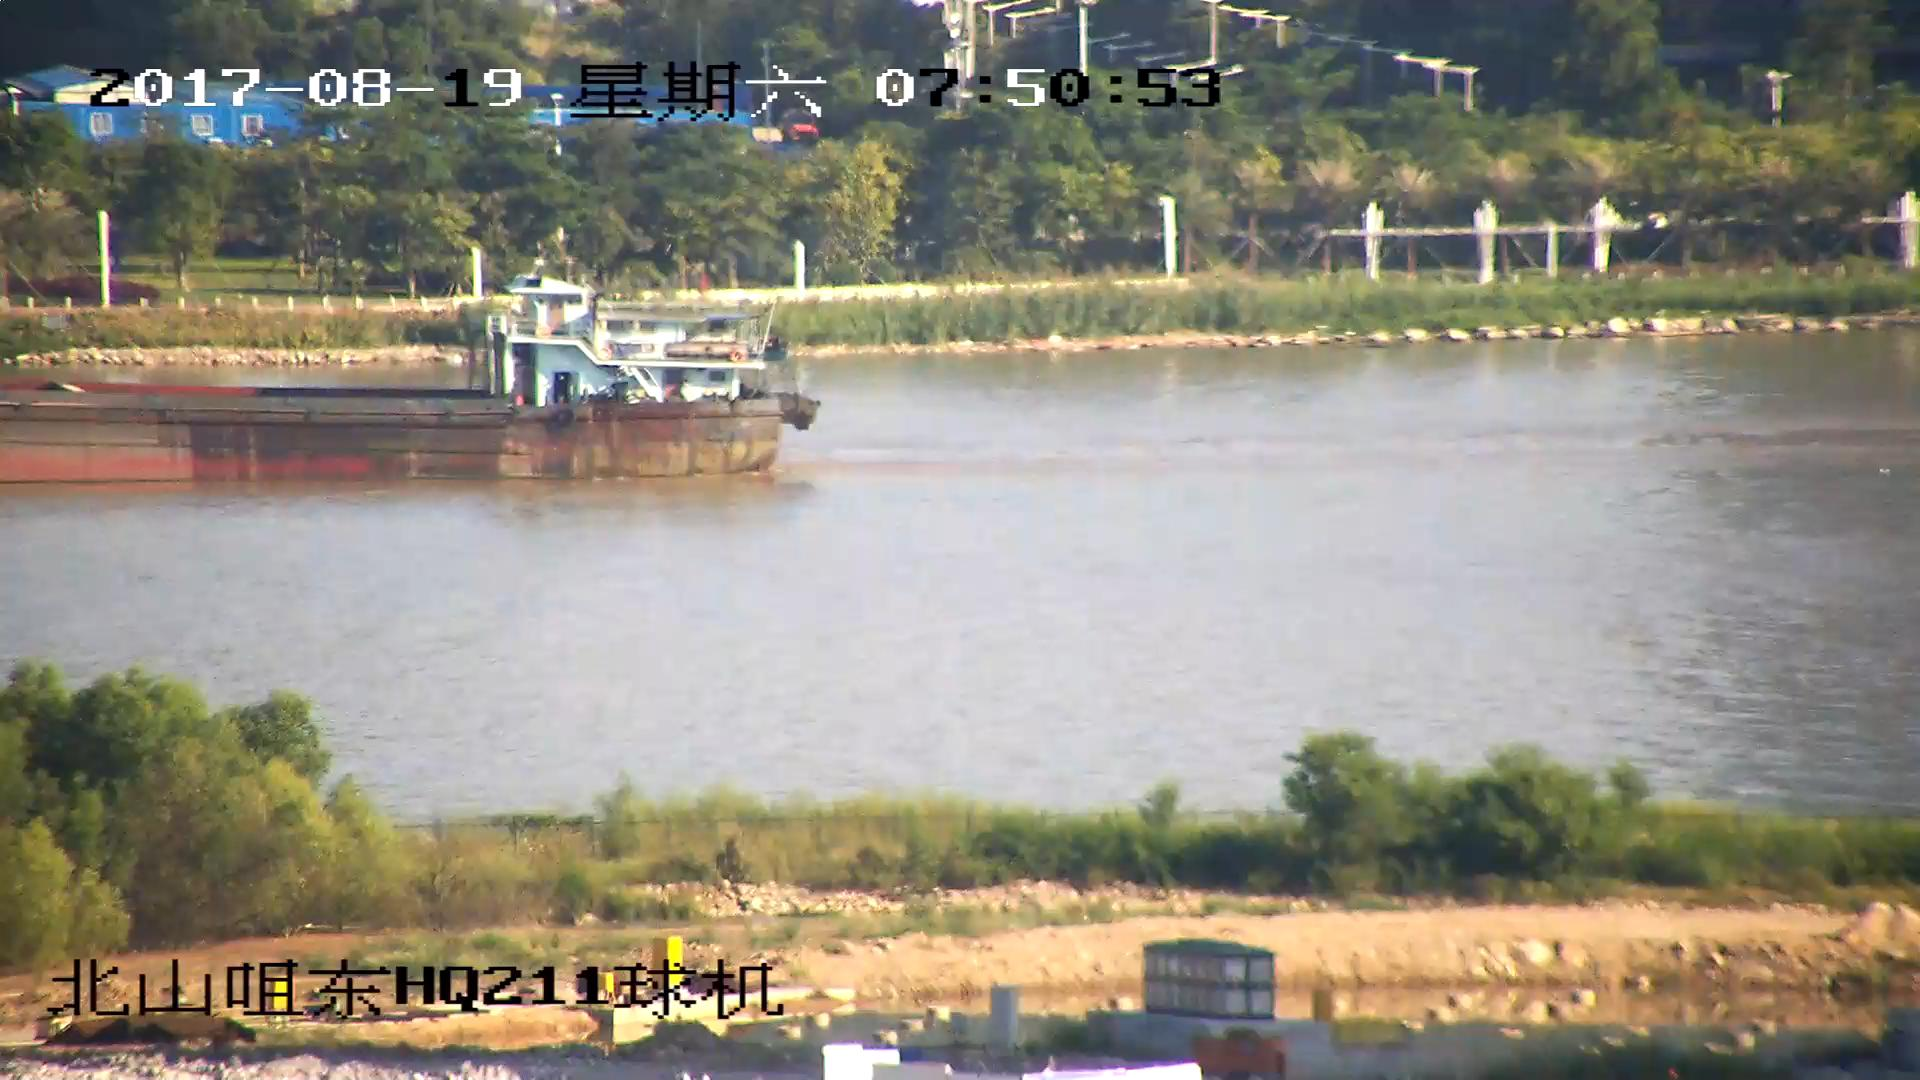bulk cargo carrier: (1, 262, 813, 483)
